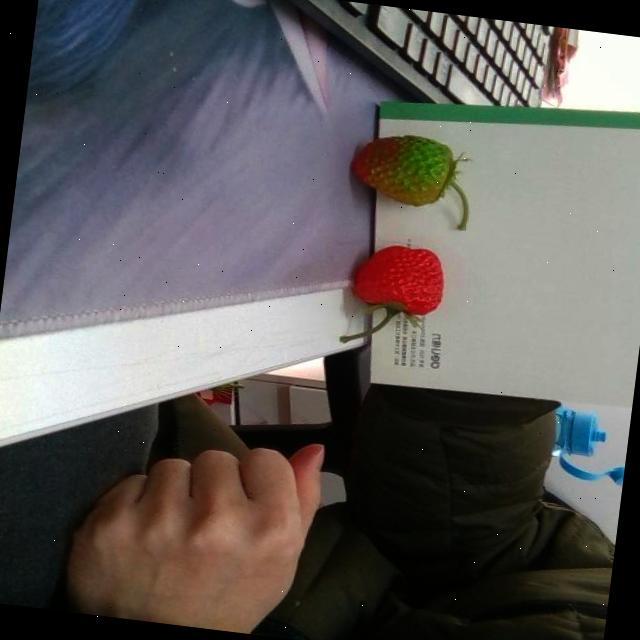strawberry: (348, 128, 461, 209), (351, 242, 448, 316)
